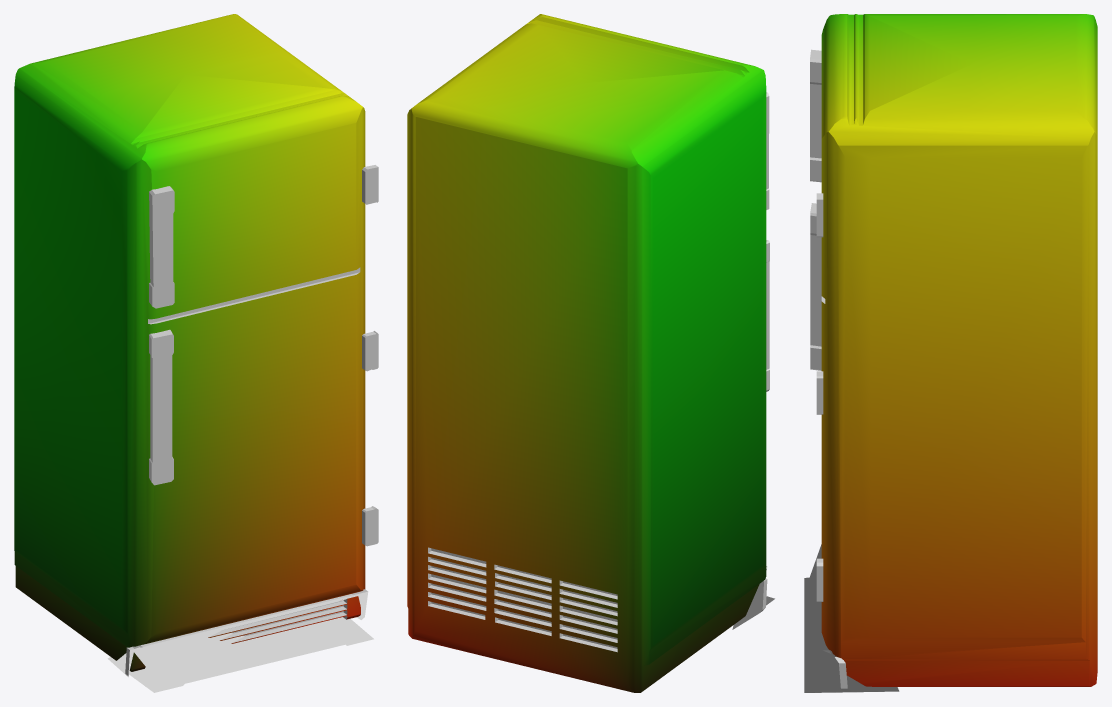
Rendered from bench_a_fridge.glb.
The picture shows the model from 3 angles, left to right: view 1: azimuth 30°, elevation 25°; view 2: azimuth 150°, elevation 25°; view 3: azimuth 270°, elevation 25°; orthographic projection. The views are drawn at different scales.
Parts seen in each view (by area): view 1: bench_a_fridge; view 2: bench_a_fridge; view 3: bench_a_fridge.
Boxes of the visible parts, x1=… form: bench_a_fridge: x1=14, y1=14, x2=378, y2=692; bench_a_fridge: x1=407, y1=14, x2=774, y2=692; bench_a_fridge: x1=804, y1=14, x2=1097, y2=692.
Bounding box in the file's own units: 0.7722 × 1.64 × 0.7637.
